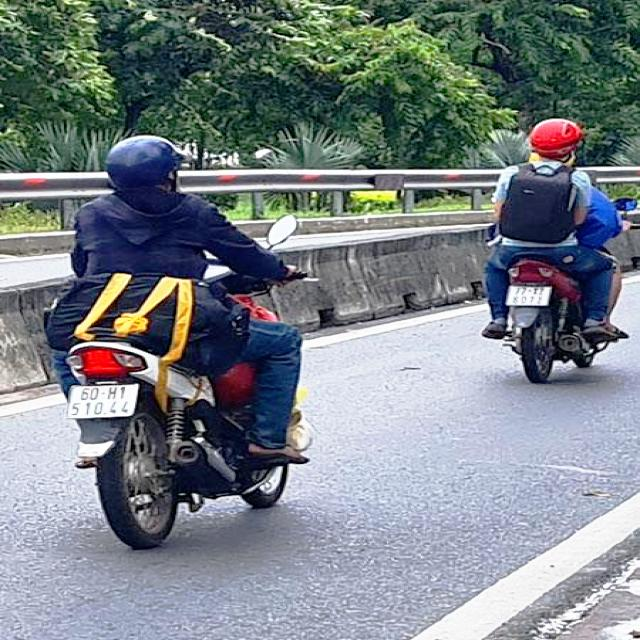license_plate: (67, 383, 142, 422)
